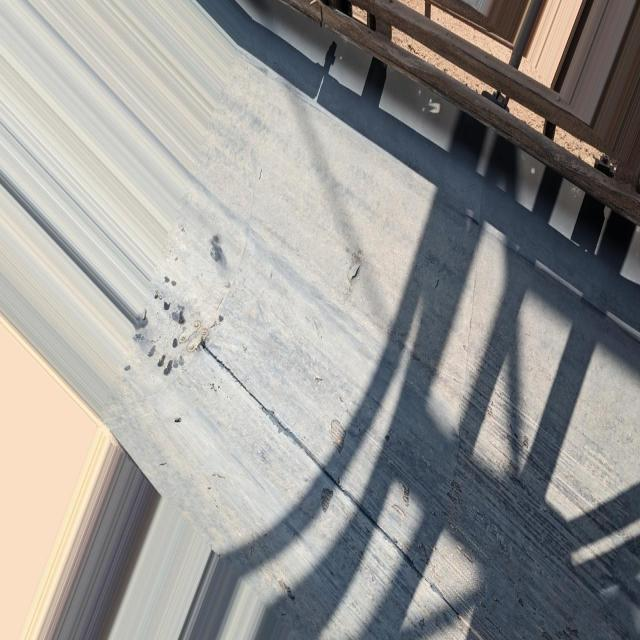Impact Damage: (322, 414, 350, 454), (319, 482, 338, 519)
Tear: (199, 340, 478, 638), (350, 264, 363, 279), (433, 276, 442, 292)
